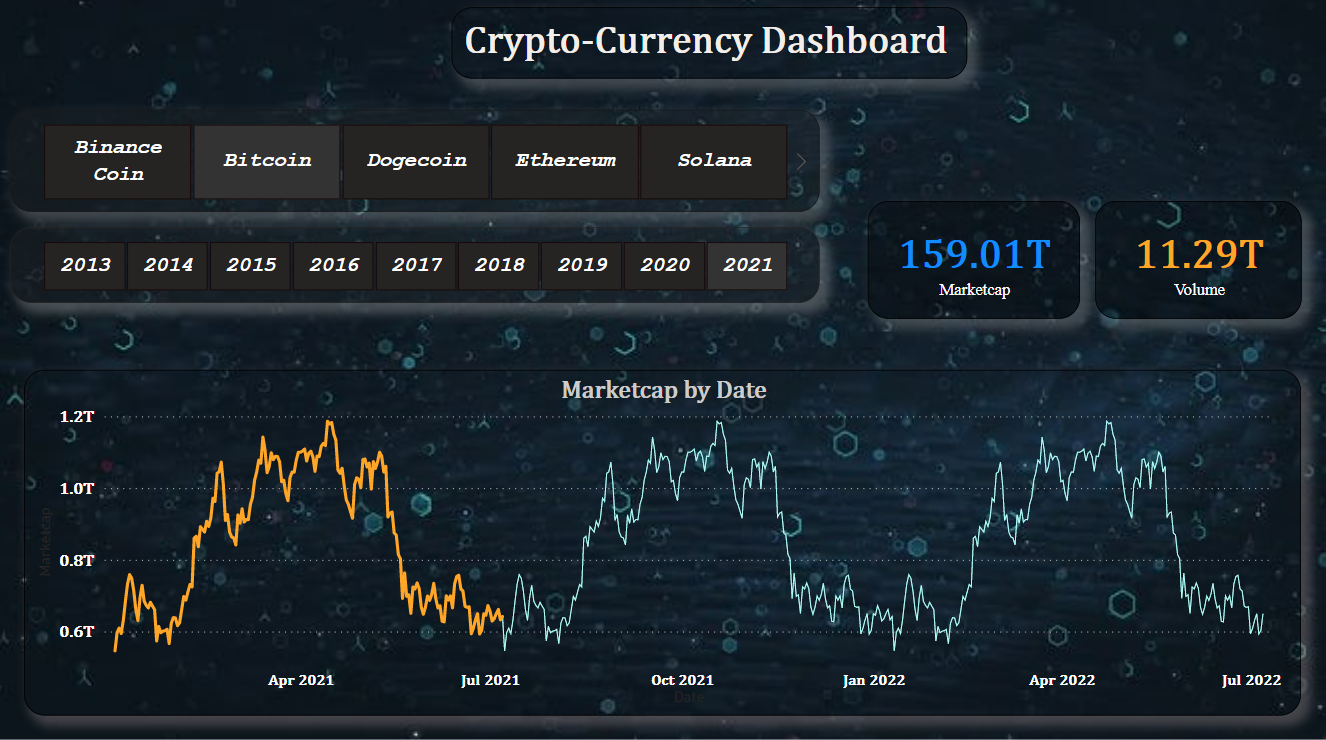

The page's visual inventory and layout, read from the dashboard file:
{"tool":"powerbi","page":{"name":"Page 1","canvas":[1280,720],"ordinal":0},"visuals":[{"type":"slicer","fields":{"Values":["CryptoCurrencyData.Name"]},"box":[11.2,109.4,780.9,98.1],"z":0},{"type":"slicer","fields":{"Values":["CryptoCurrencyData.Year"]},"box":[11.2,222.9,780.9,72.9],"z":2},{"type":"lineChart","fields":{"Category":["CryptoCurrencyData.Date"],"Y":["Sum(CryptoCurrencyData.Marketcap)"]},"box":[23.8,360.3,1232.3,333.7],"z":3},{"type":"card","fields":{"Values":["Sum(CryptoCurrencyData.Marketcap)"]},"box":[838.4,197.7,204.7,113.6],"z":4},{"type":"card","fields":{"Values":["Sum(CryptoCurrencyData.Volume)"]},"box":[1057.1,197.7,199.1,113.6],"z":5},{"type":"textbox","box":[436,11.2,497.7,68.7],"z":6}]}

Visuals, with their boxes in screenshot pixels (x1, y1, x2, y2), scaled from the page's 1280x720 canvas onto the 1326x740 screenshot:
slicer - CryptoCurrencyData.Name: l=12, t=112, r=821, b=213
slicer - CryptoCurrencyData.Year: l=12, t=229, r=821, b=304
lineChart - CryptoCurrencyData.Date x Sum(CryptoCurrencyData.Marketcap): l=25, t=370, r=1301, b=713
card - Sum(CryptoCurrencyData.Marketcap): l=869, t=203, r=1081, b=320
card - Sum(CryptoCurrencyData.Volume): l=1095, t=203, r=1301, b=320
textbox: l=452, t=12, r=967, b=82
